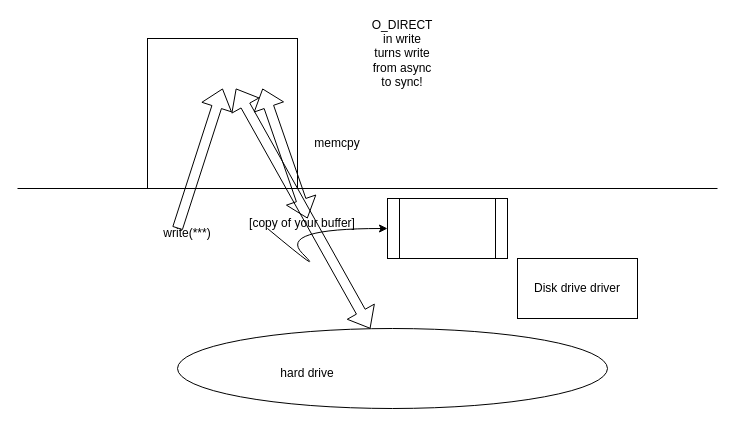
The diagram is 736 pixels wide and 426 high, and some of its shapes have lost their labels. The shapes that lost their labels are listed below. From the top down, each one's centre as x and y in pixels, then its label:
At pixel 222 113: "[buffer you want to write]".
At pixel 447 228: "queue of request".
